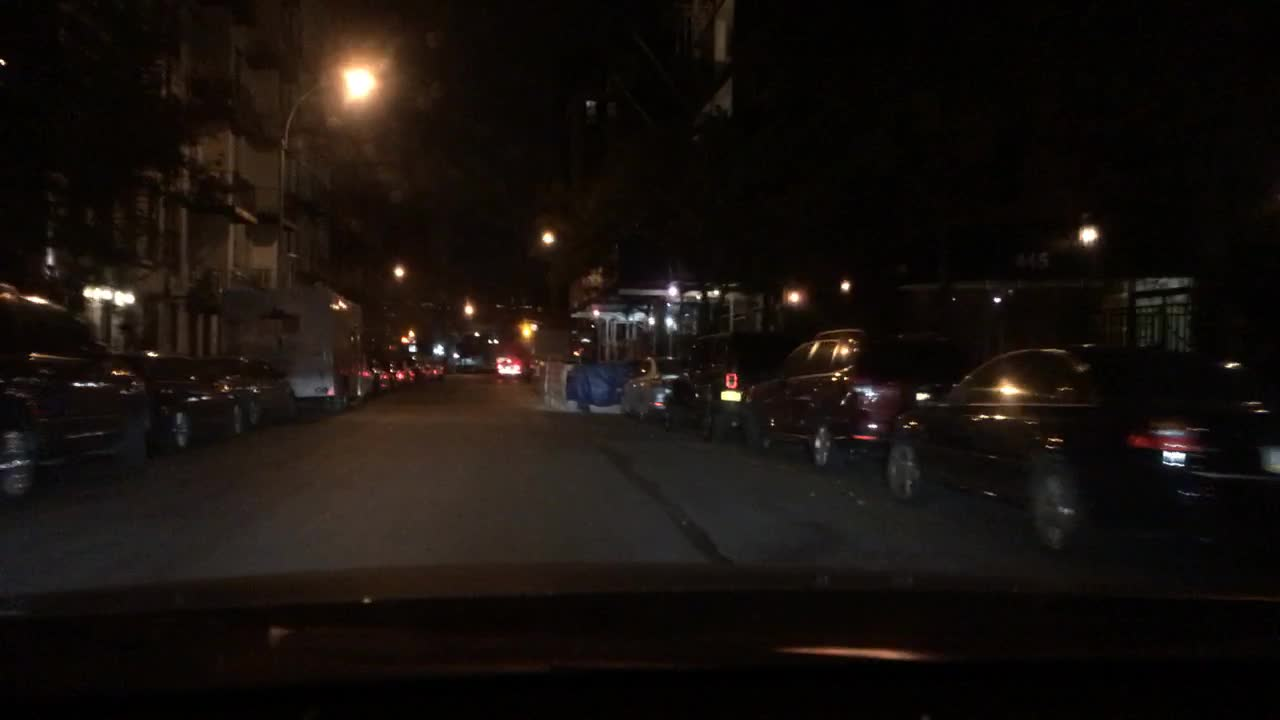car: (887, 344, 1275, 548), (0, 278, 158, 493), (743, 331, 964, 474), (113, 349, 249, 449), (661, 330, 789, 435), (202, 348, 303, 430), (614, 349, 684, 418), (360, 342, 394, 394), (387, 345, 419, 381), (412, 353, 445, 378), (492, 356, 524, 381)
truck: (218, 283, 368, 413), (529, 308, 649, 390), (454, 341, 485, 373)
